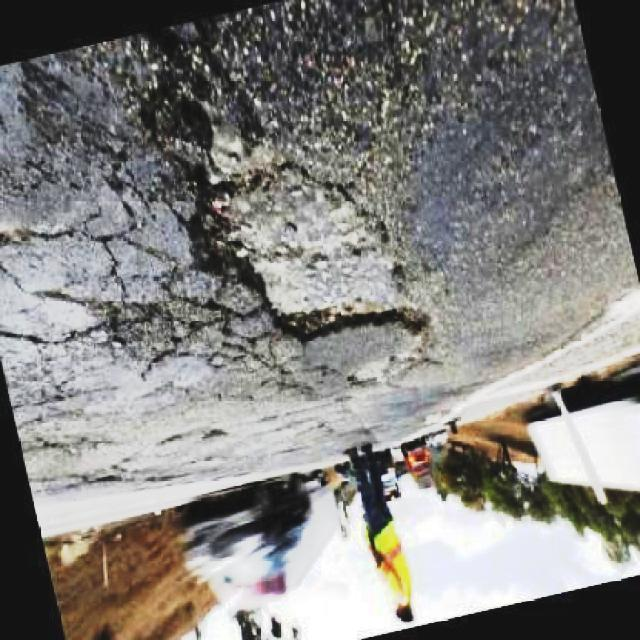pothole: (133, 34, 444, 341)
